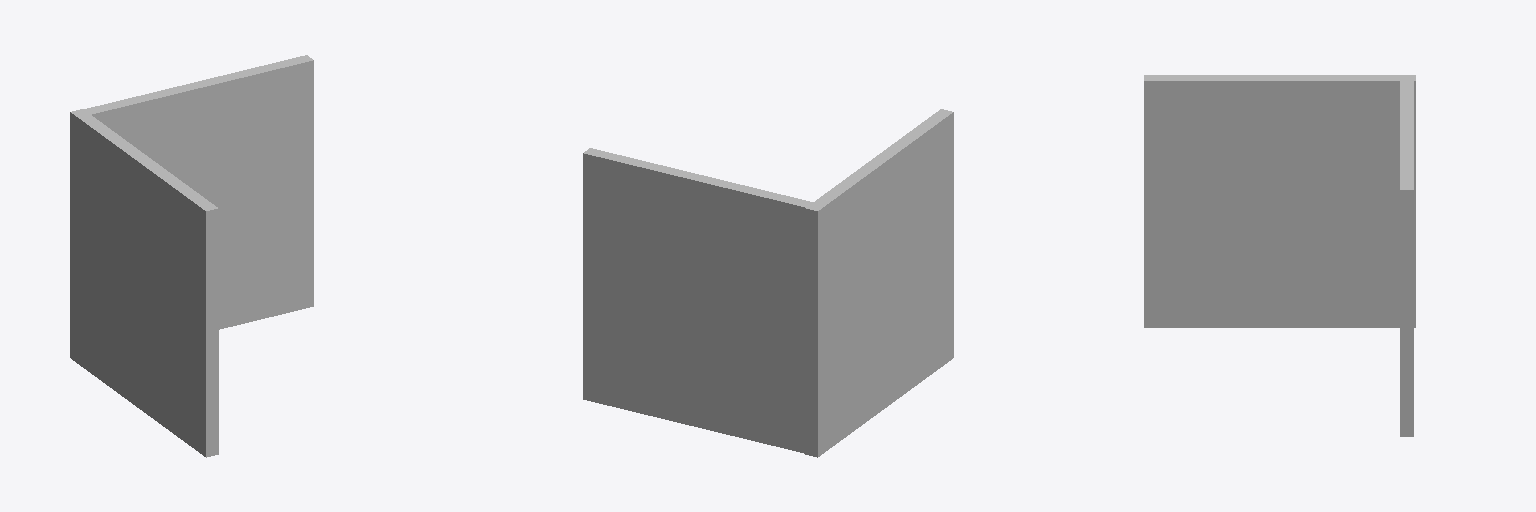
The model's file is walls.obj.
The picture shows the model from 3 angles: view 1: azimuth 30°, elevation 25°; view 2: azimuth 150°, elevation 25°; view 3: azimuth 270°, elevation 25°; orthographic projection.
Visible parts, largest first — view 1: Cube.003; view 2: Cube.003; view 3: Cube.003.
Boxes of the visible parts, box(x1,y1,x2,y2) form: Cube.003: box(70, 55, 313, 457); Cube.003: box(583, 109, 953, 457); Cube.003: box(1144, 75, 1415, 436).
Bounding box in the file's own units: 20.04 × 20 × 20.